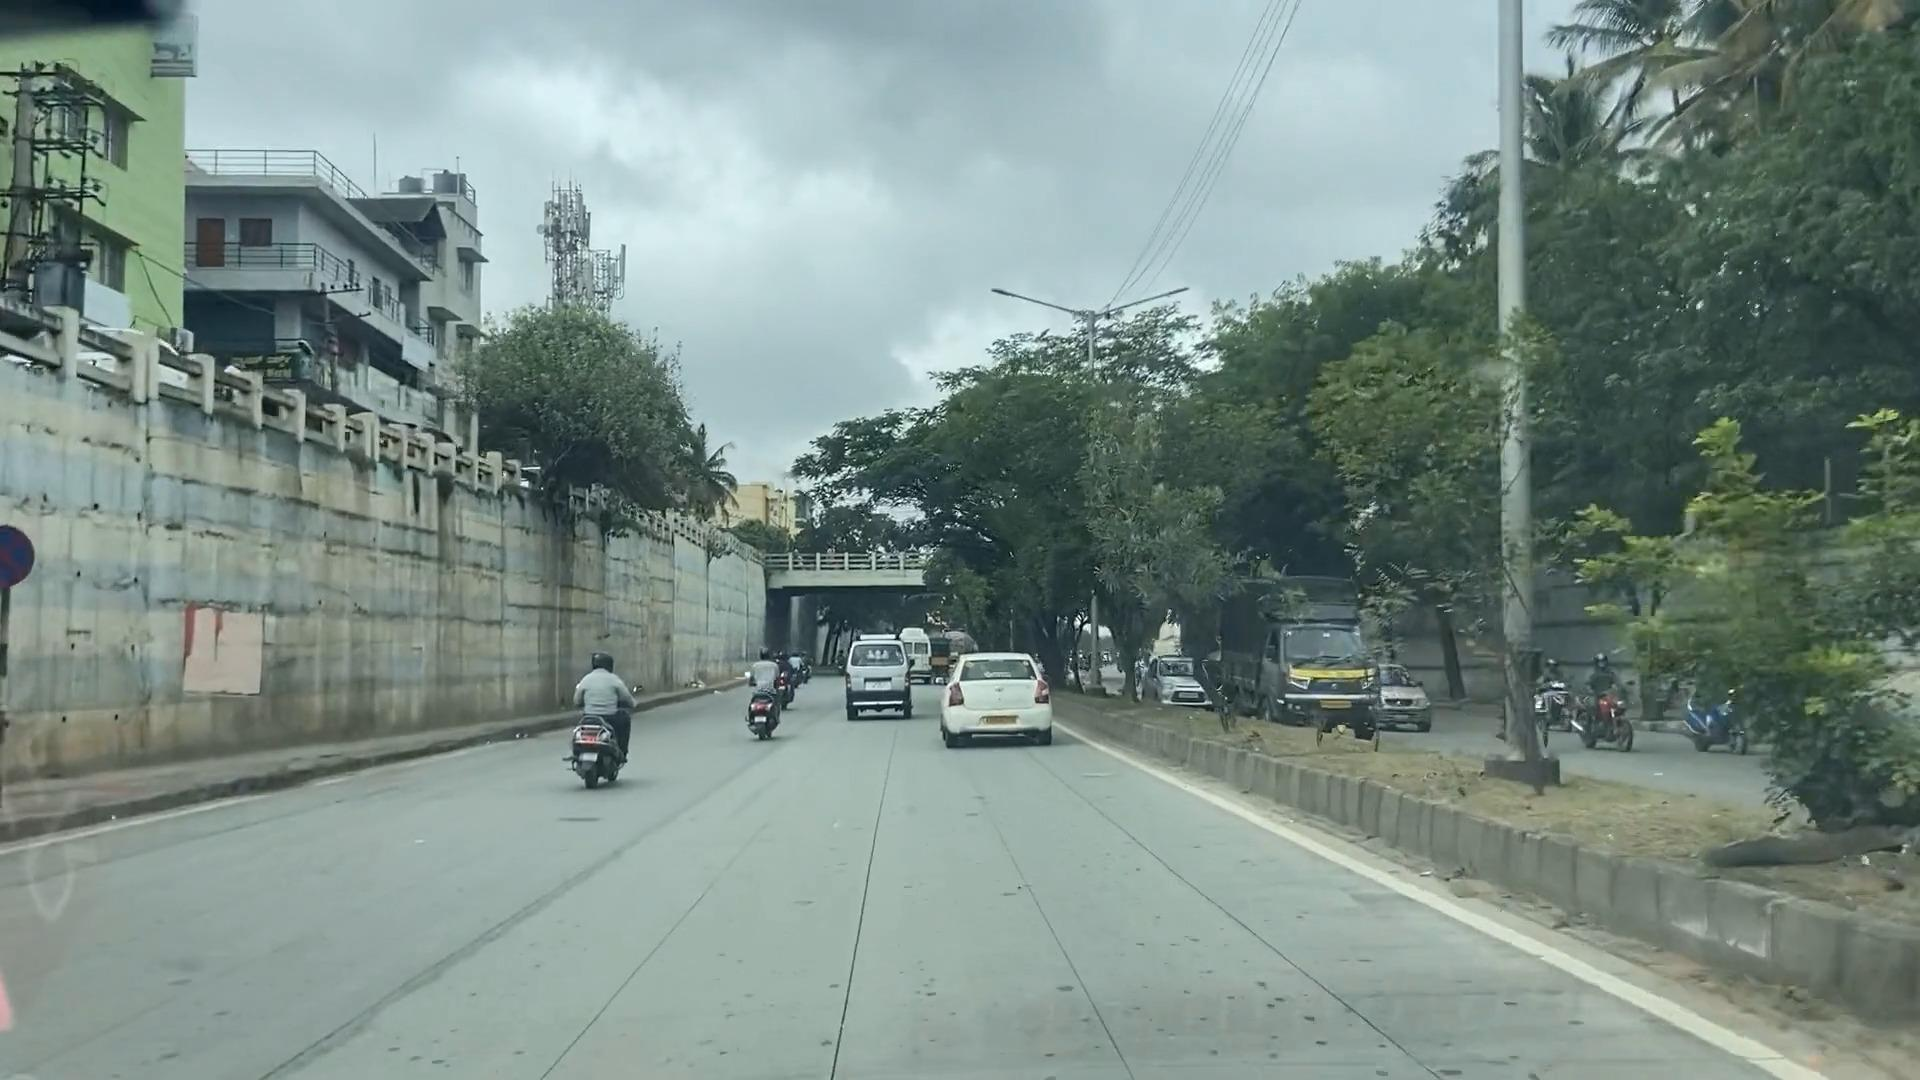LMV: (934, 647, 1059, 750), (560, 644, 640, 793)
